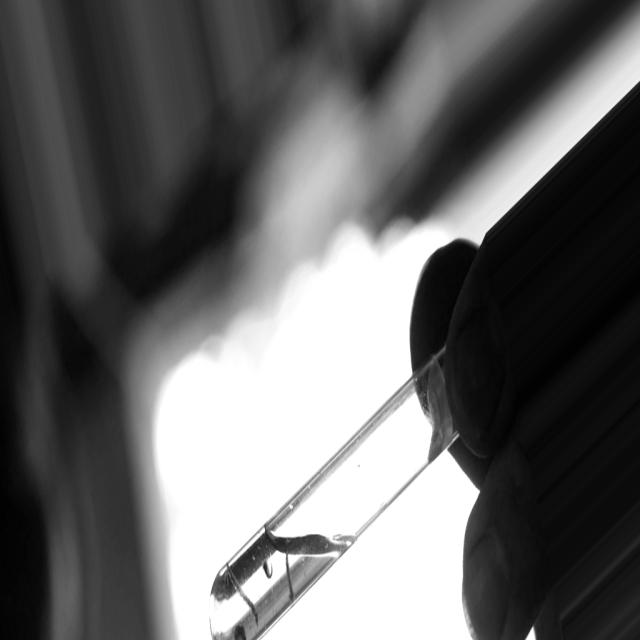larvas: (221, 559, 265, 632), (284, 548, 294, 598), (263, 562, 275, 580), (233, 626, 247, 638)
